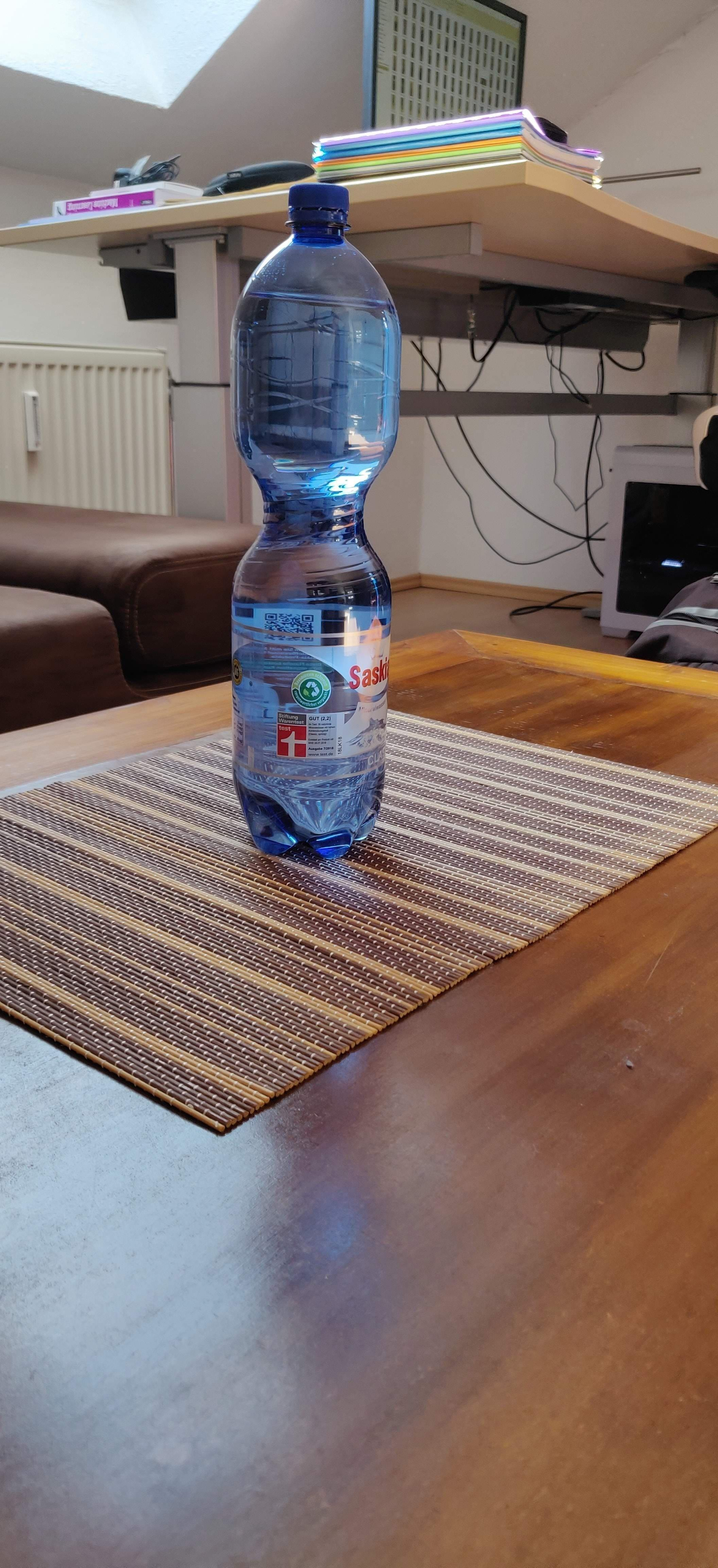bottle-plastic: (227, 181, 397, 866)
